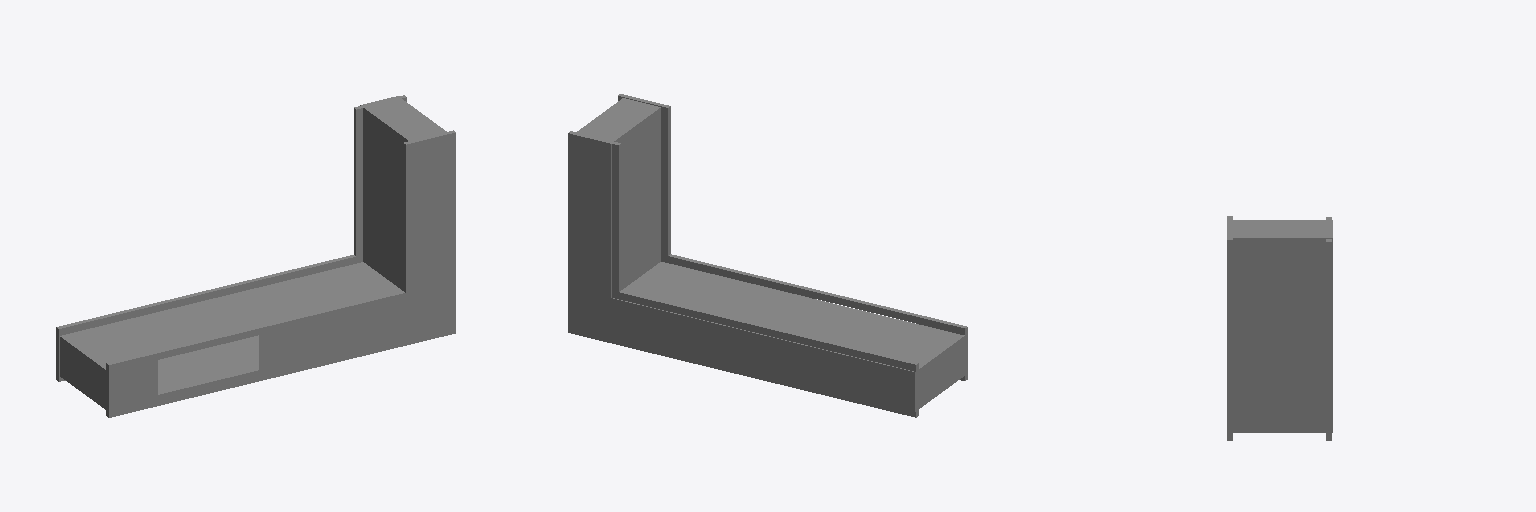
Rendered from Bar.obj.
The picture shows the model from 3 angles: view 1: azimuth 30°, elevation 25°; view 2: azimuth 150°, elevation 25°; view 3: azimuth 270°, elevation 25°; orthographic projection.
Visible parts, largest first — view 1: Bar; view 2: Bar; view 3: Bar.
Boxes of the visible parts, x1,y1,x2,y2 form: Bar: [56, 95, 455, 417]; Bar: [568, 94, 967, 417]; Bar: [1227, 216, 1332, 440].
Bounding box in the file's own units: 384 × 212 × 101.